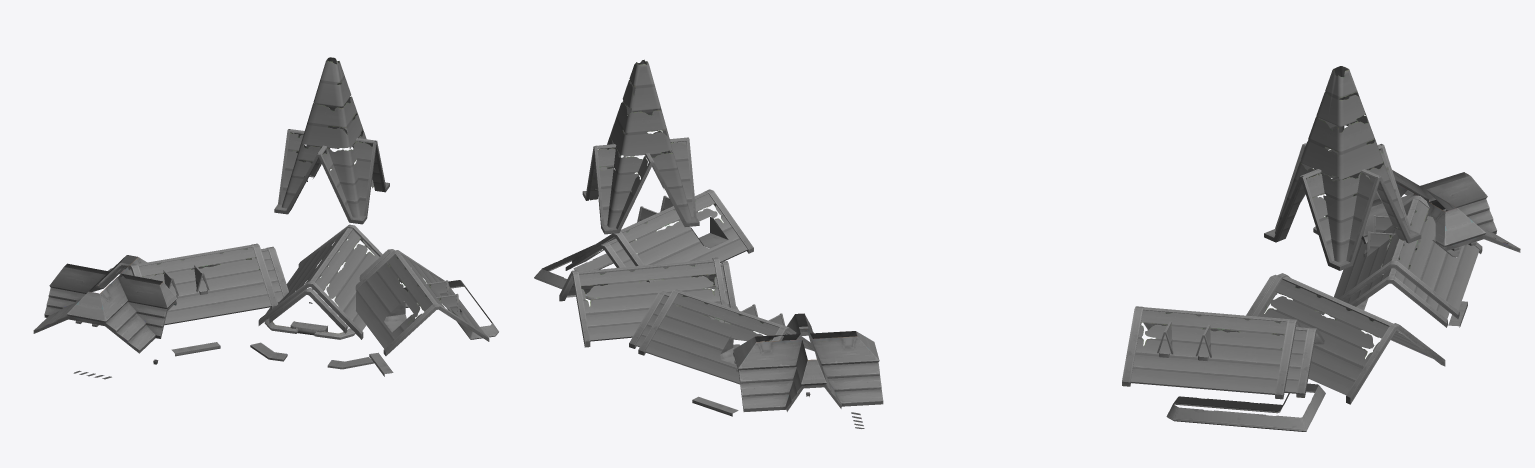
The model's file is pref_sm_garden_house_vertexcolor04_lv2.fbx.
3 views of the same model, side by side, from view 1: azimuth 30°, elevation 25°; view 2: azimuth 150°, elevation 25°; view 3: azimuth 270°, elevation 25° (orthographic). The views are drawn at different scales.
Parts seen in each view (by area): view 1: pref_sm_garden_house_vertexcolor04_lv2; view 2: pref_sm_garden_house_vertexcolor04_lv2; view 3: pref_sm_garden_house_vertexcolor04_lv2.
Boxes of the visible parts, <box> form: pref_sm_garden_house_vertexcolor04_lv2: <box>33,57,498,379</box>; pref_sm_garden_house_vertexcolor04_lv2: <box>534,59,883,428</box>; pref_sm_garden_house_vertexcolor04_lv2: <box>1122,66,1520,431</box>.
Size of the model in its own units: 28.21 by 21.36 by 27.52.
